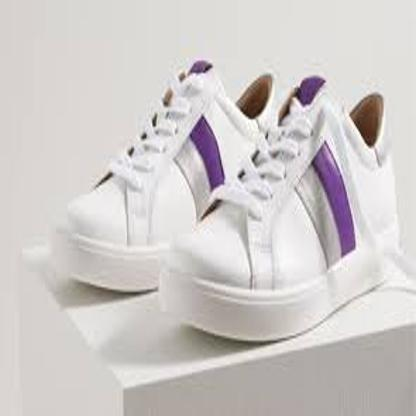not trash: (54, 61, 396, 343)
